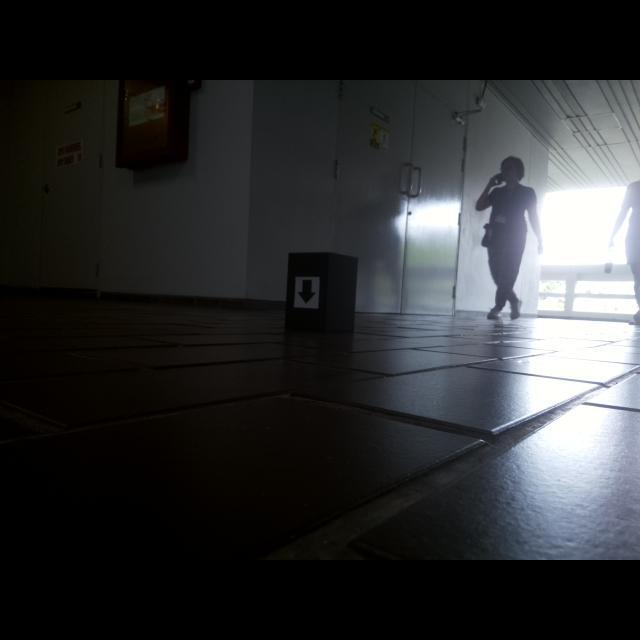DOWN: (297, 279, 317, 305)
